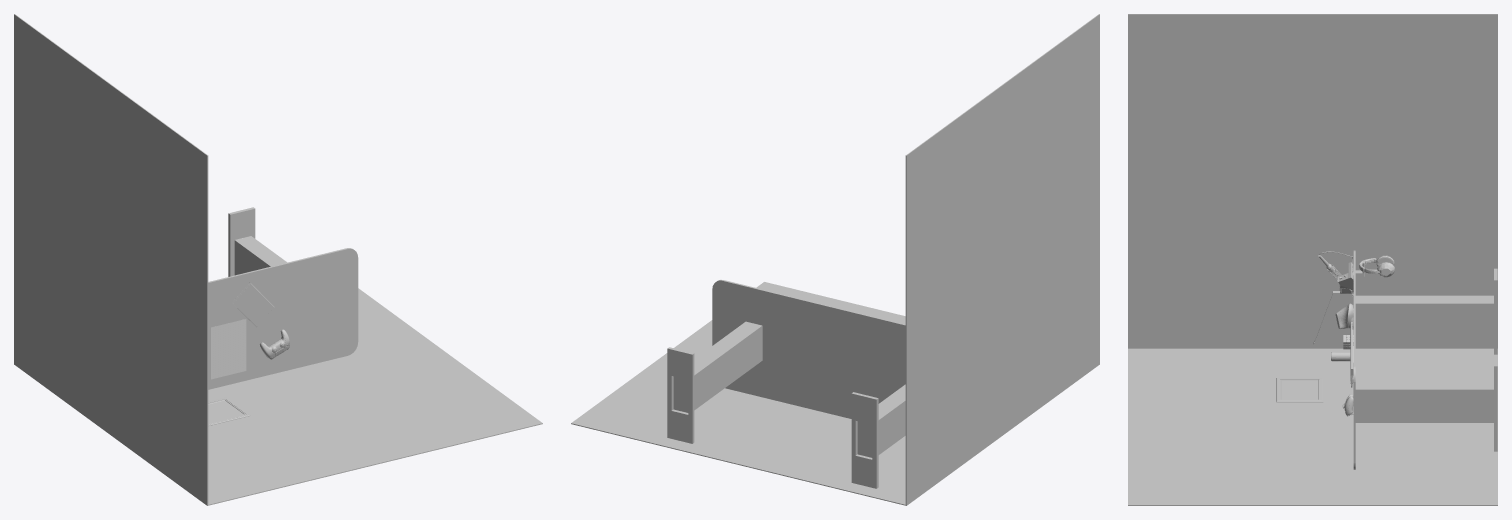
The model's file is Desk-7-compressed.glb.
The picture shows the model from 3 angles, left to right: view 1: azimuth 30°, elevation 25°; view 2: azimuth 150°, elevation 25°; view 3: azimuth 270°, elevation 25°; orthographic projection. The views are drawn at different scales.
Parts seen in each view (by area): view 1: Body4_1, Body1_1, Body5_1, Body3_1, pCube1, MeshBody1_13; view 2: Body1_1, Body4_1, Body2_1, Body3_1; view 3: Body4_1, Body1_1, MeshBody1_13, MeshBody2__2_, Body7.
Part boxes in pixels (bbox=[...]): Body4_1: bbox=[89, 69, 542, 505]; Body1_1: bbox=[14, 14, 424, 419]; Body5_1: bbox=[211, 319, 246, 379]; Body3_1: bbox=[228, 207, 255, 276]; pCube1: bbox=[232, 282, 274, 326]; MeshBody1_13: bbox=[208, 397, 250, 425]; Body1_1: bbox=[571, 100, 981, 505]; Body4_1: bbox=[647, 14, 1099, 450]; Body2_1: bbox=[851, 392, 878, 488]; Body3_1: bbox=[667, 347, 694, 443]; Body4_1: bbox=[1128, 14, 1353, 505]; Body1_1: bbox=[1313, 14, 1497, 505]; MeshBody1_13: bbox=[1276, 378, 1323, 402]; MeshBody2__2_: bbox=[1359, 255, 1394, 277]; Body7: bbox=[1314, 293, 1332, 340].
Size of the model in its own units: 2005 by 2000 by 2000.
Materials: 2 (1 with a texture image).
